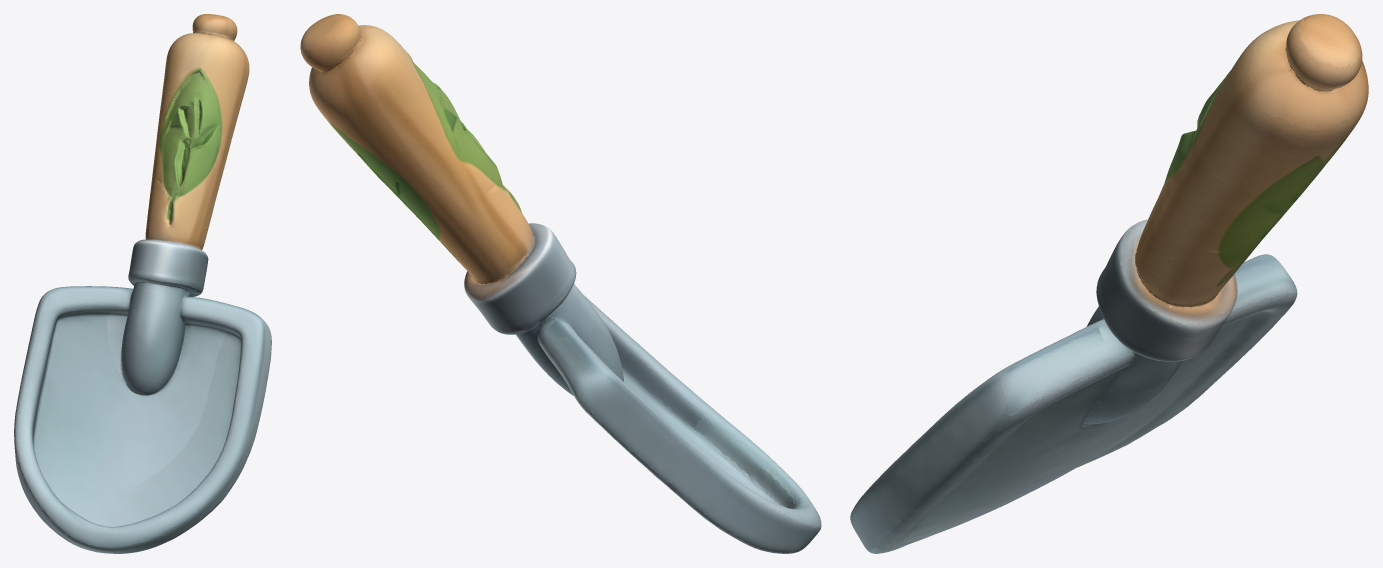
Rendered from prp_shovel_01.glb.
3 renders of one model, left to right at view 1: azimuth 30°, elevation 25°; view 2: azimuth 150°, elevation 25°; view 3: azimuth 270°, elevation 25°, orthographic. The views are drawn at different scales.
Visible parts, largest first — view 1: geometry_0; view 2: geometry_0; view 3: geometry_0.
Part boxes in pixels (box(x1,y1,x2,y2)): geometry_0: box(14, 14, 271, 553); geometry_0: box(300, 14, 821, 553); geometry_0: box(850, 14, 1368, 553).
Size of the model in its own units: 0.18 by 0.245 by 0.1658.
1 material, 1 textured.
